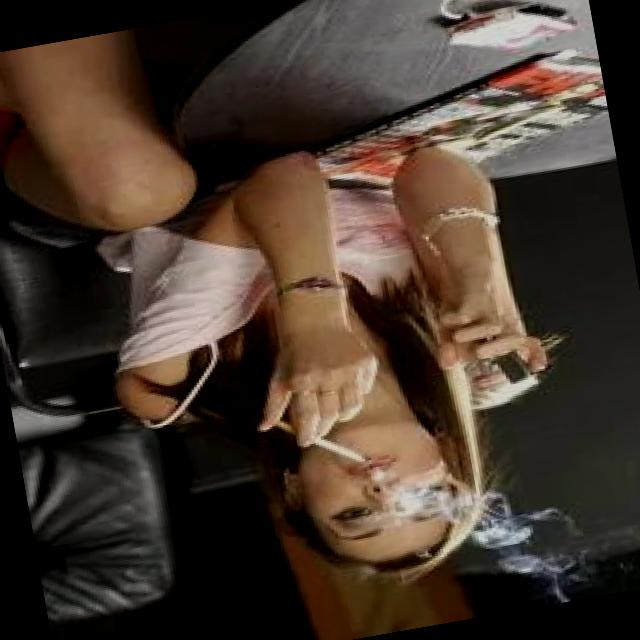smoke: (258, 398, 372, 485)
